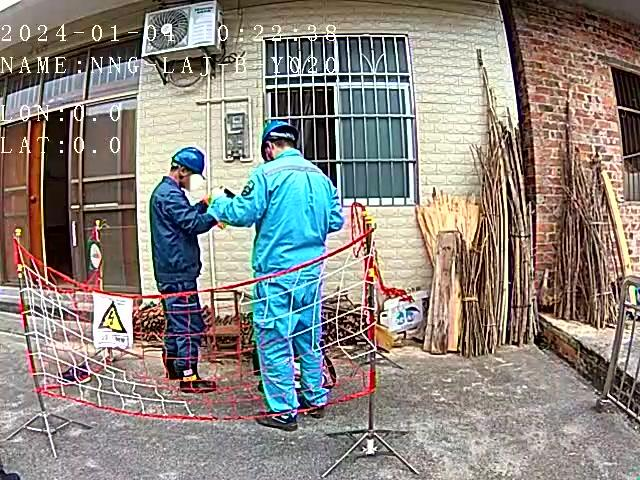halt: (170, 149, 208, 189), (262, 125, 302, 161)
inear: (179, 164, 194, 183)
